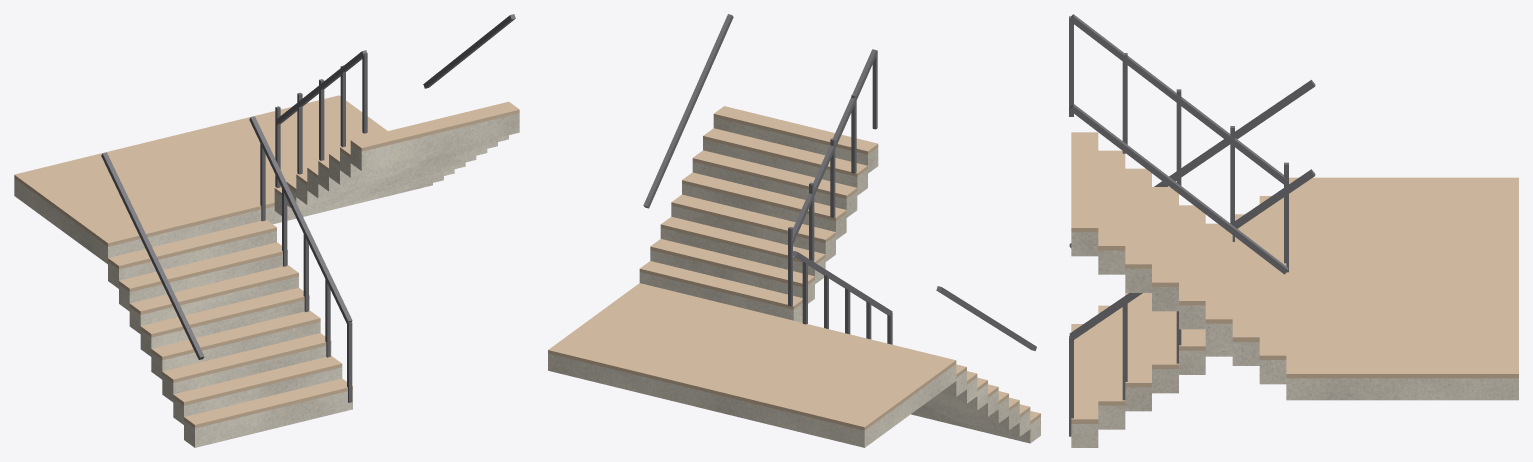
Rendered from stairs_u_3m_192_192.glb.
The picture shows the model from 3 angles, left to right: view 1: azimuth 30°, elevation 25°; view 2: azimuth 150°, elevation 25°; view 3: azimuth 270°, elevation 25°; orthographic projection. The views are drawn at different scales.
Visible parts, largest first — view 1: stairs_u_3m_192_192_floor, stairs_u_3m_192_192_plaster, stairs_u_3m_192_192_iron; view 2: stairs_u_3m_192_192_floor, stairs_u_3m_192_192_plaster, stairs_u_3m_192_192_iron; view 3: stairs_u_3m_192_192_floor, stairs_u_3m_192_192_plaster, stairs_u_3m_192_192_iron.
Boxes of the visible parts, x1,y1,x2,y2 form: stairs_u_3m_192_192_floor: (14, 95, 519, 428); stairs_u_3m_192_192_plaster: (14, 113, 519, 447); stairs_u_3m_192_192_iron: (101, 14, 515, 402); stairs_u_3m_192_192_floor: (548, 106, 1040, 430); stairs_u_3m_192_192_plaster: (548, 117, 1040, 447); stairs_u_3m_192_192_iron: (643, 14, 1036, 350); stairs_u_3m_192_192_floor: (1071, 132, 1518, 423); stairs_u_3m_192_192_plaster: (1071, 232, 1518, 447); stairs_u_3m_192_192_iron: (1069, 14, 1315, 436).
Size of the model in its own units: 3.84 by 4.01 by 3.72.
Materials: 3 (1 with a texture image).
